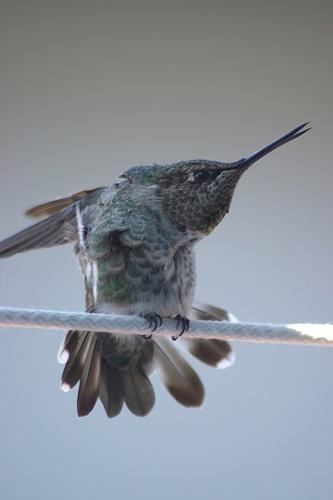bird: (4, 121, 313, 419)
